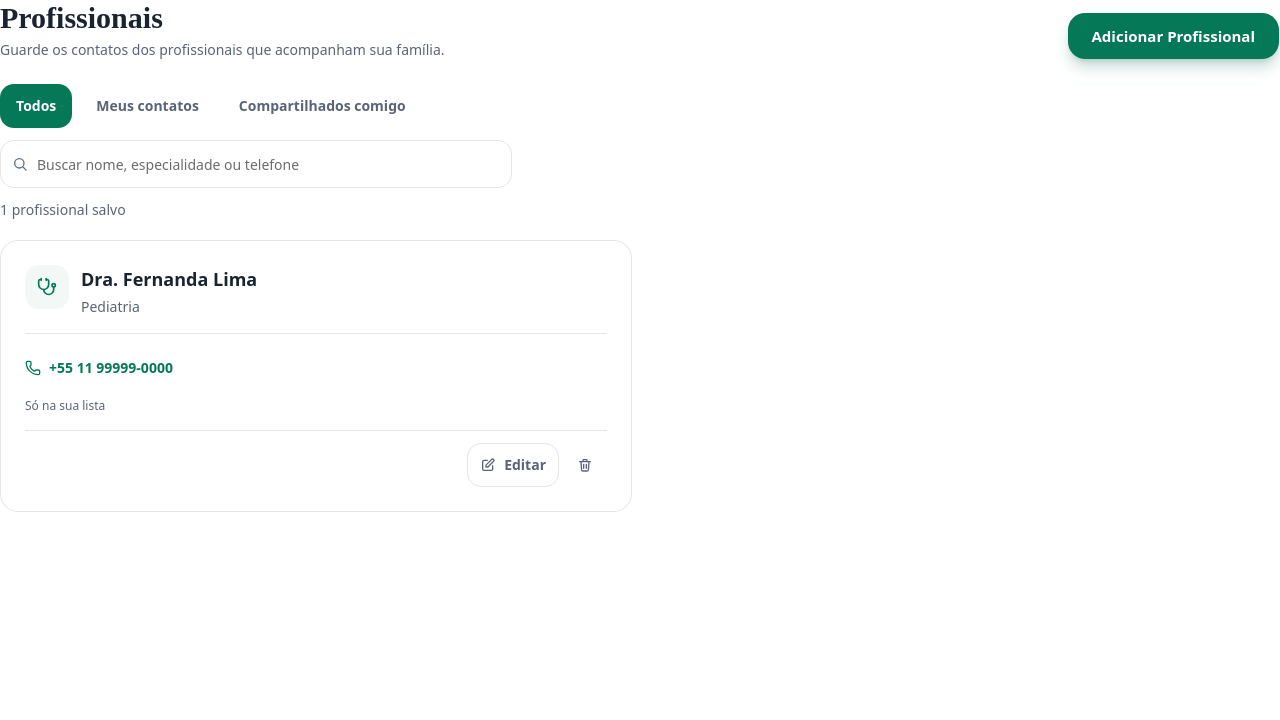
it: editing, removing and sharing a professional › removes a professional once the removal is confirmed
The width and height of the screenshot is (1280, 720).
Click the button named "Remover Dra. Fernanda Lima". click: (585, 465)
box: [563, 443, 607, 487]
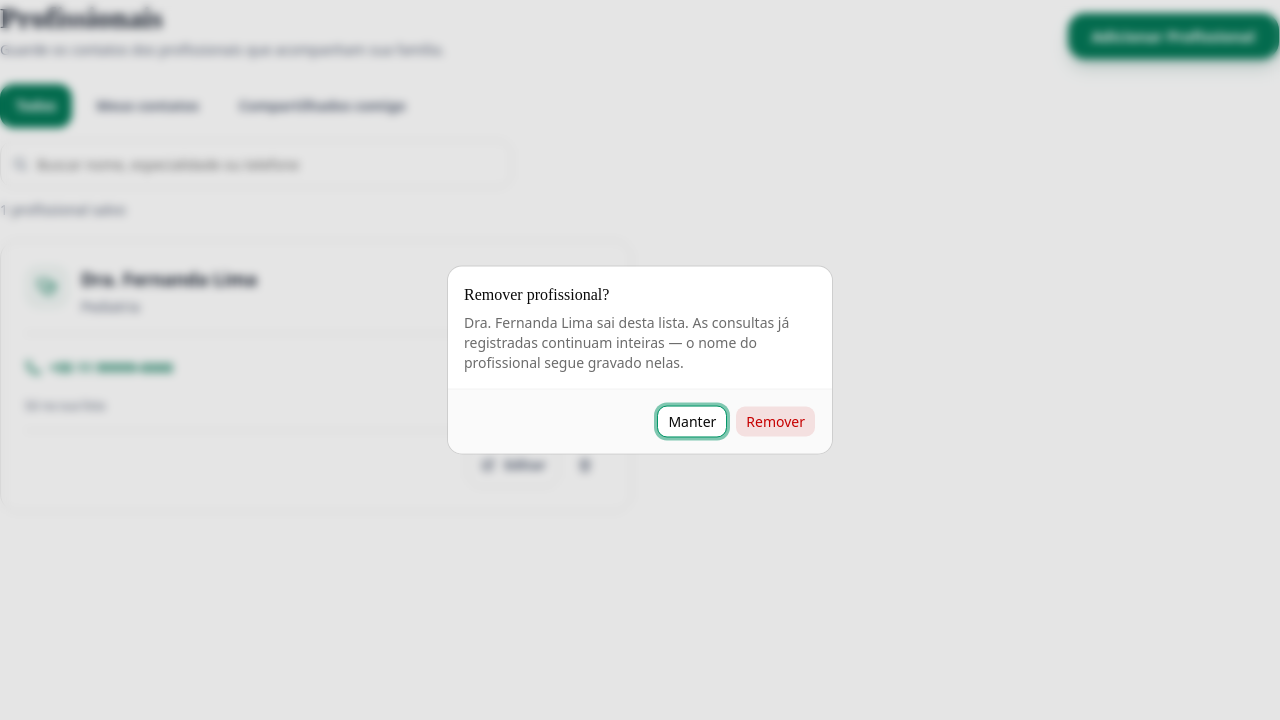
Click the button "Remover". click: (776, 422)
box: [735, 406, 816, 438]
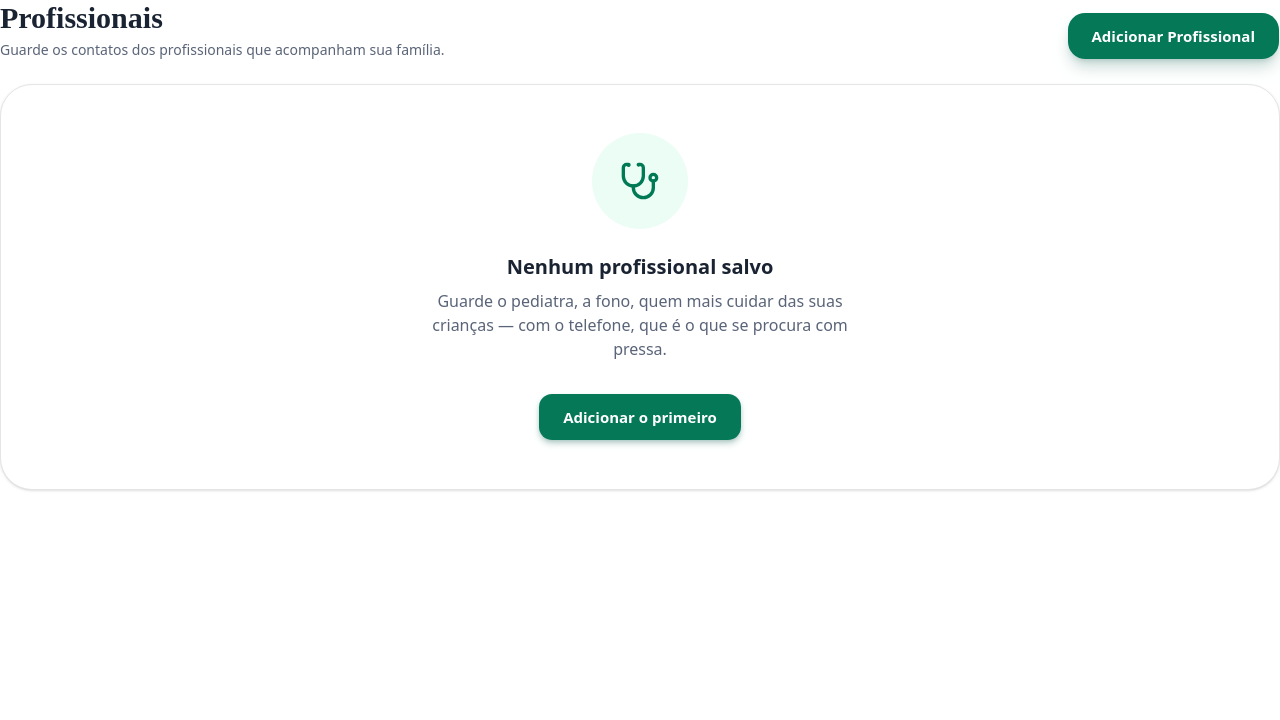
Now the heading "Dra. Fernanda Lima" is gone
